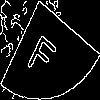F: (25, 25, 62, 81)
